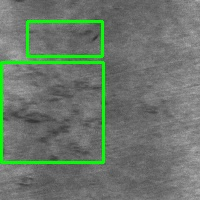rolled-in_scale: (1, 62, 103, 162), (27, 21, 102, 56)
